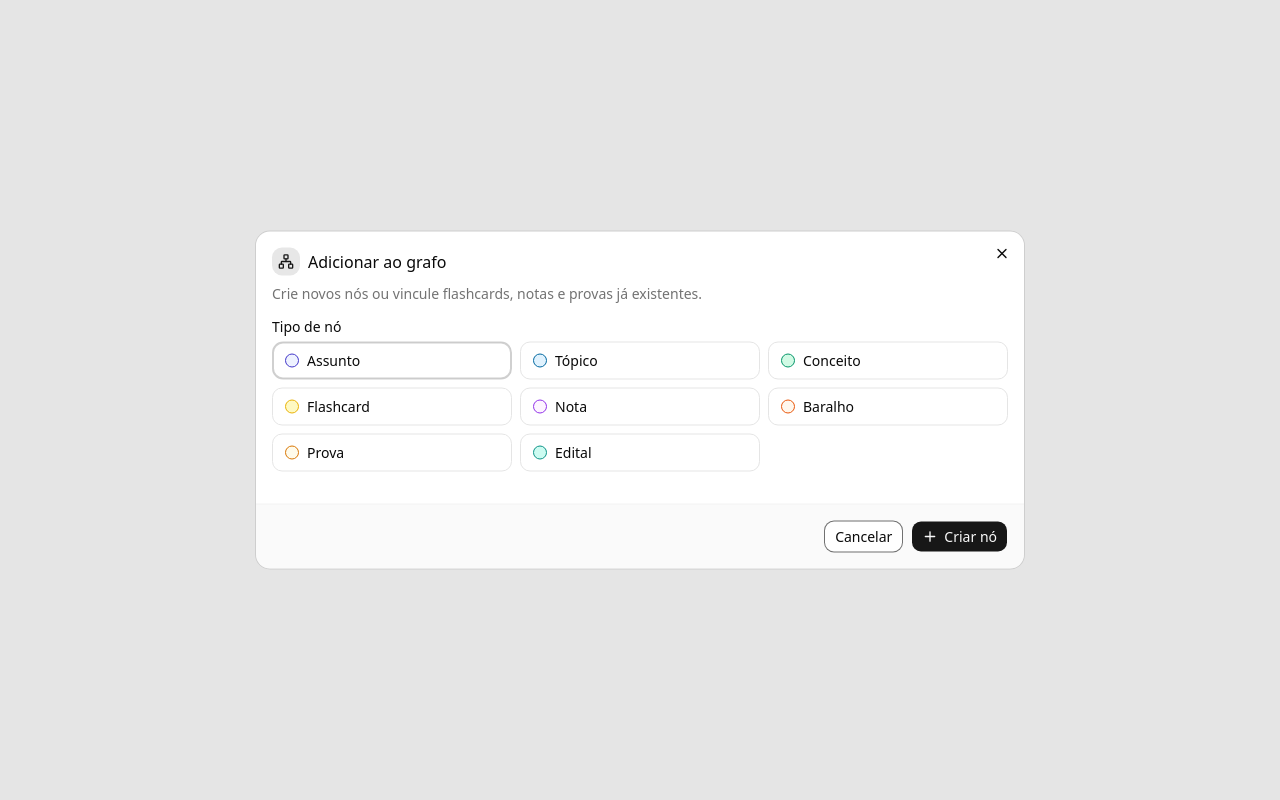
Test case: CreateNodeModal validation › asks for title, subtype and content of a NOTA in one pass
This screenshot has width=1280, height=800.
Click the button "Nota". click: (640, 406)
box: 520,388 -> 760,426
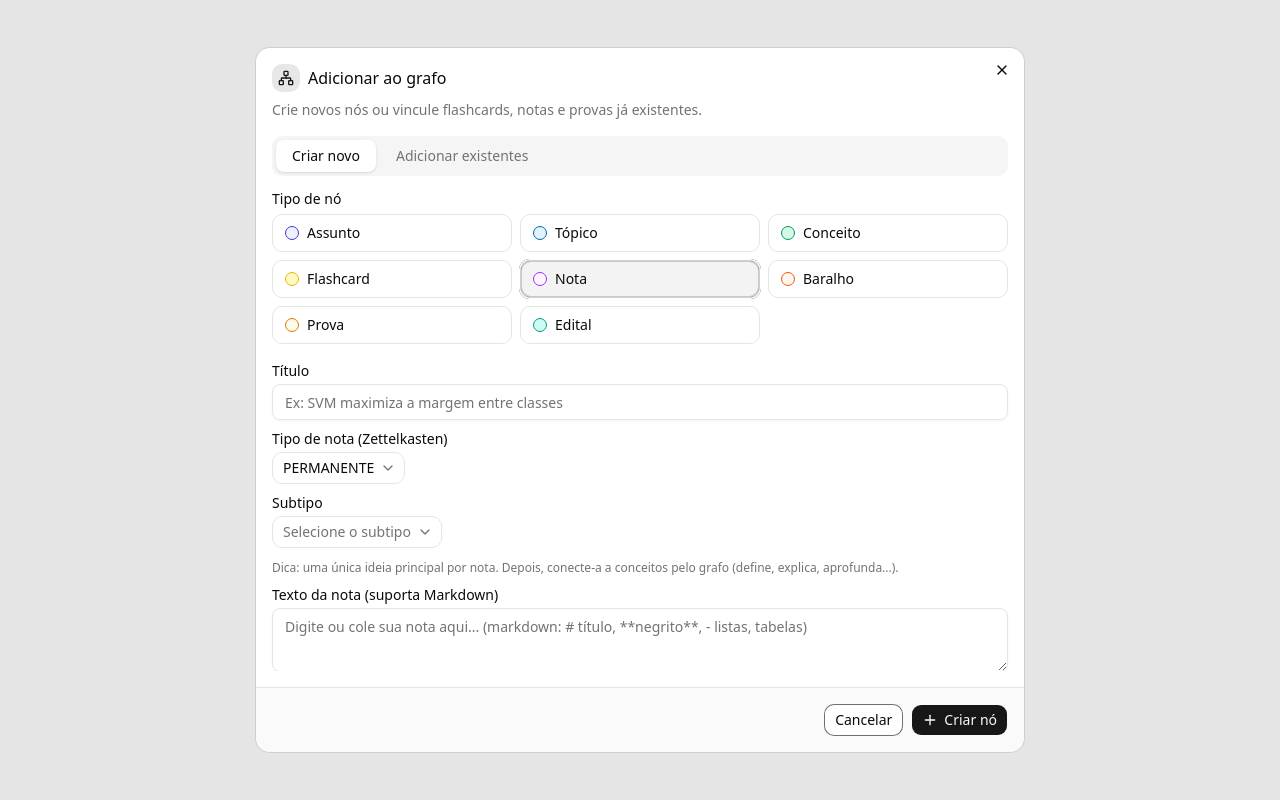
Click the button "Criar nó". click: (960, 720)
box: 911,704 -> 1008,736
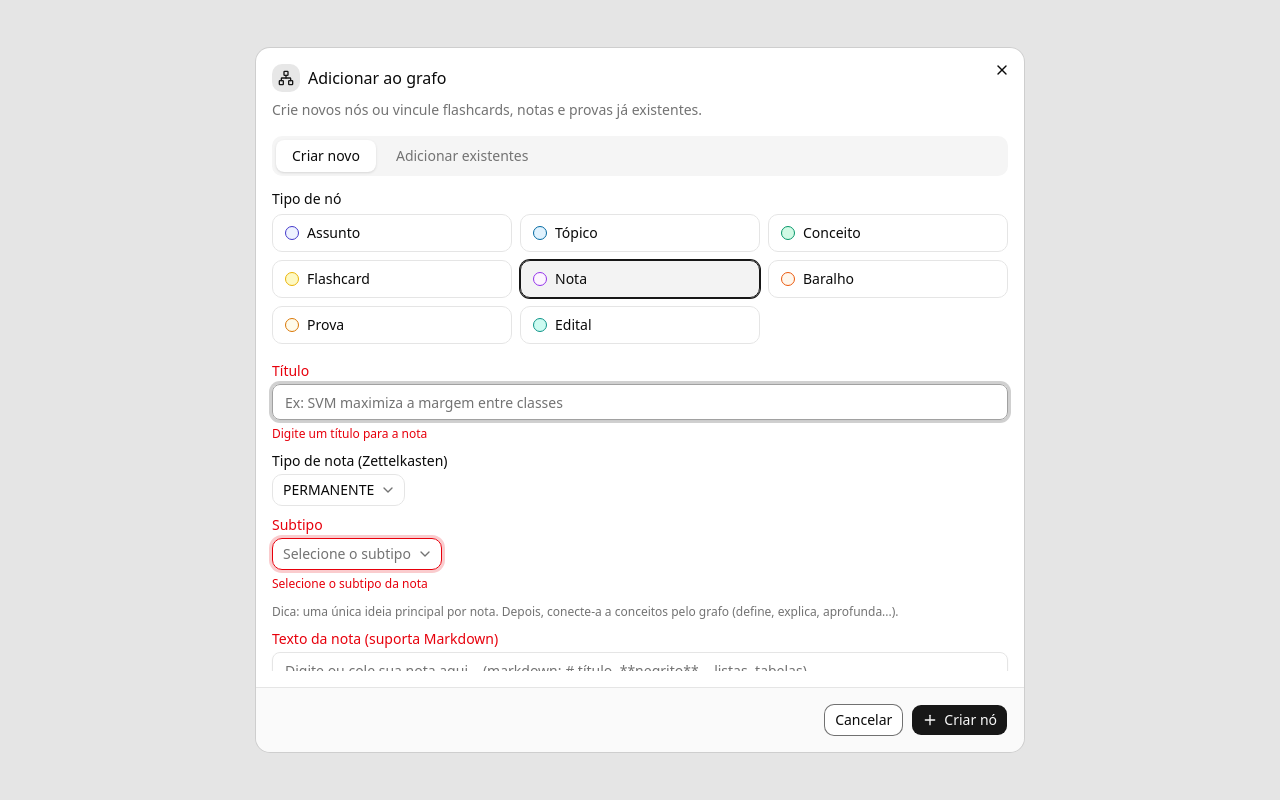
Result: the text "Digite um título para a nota" is shown at 272,425 -> 427,442
Result: the text "Selecione o subtipo da nota" is shown at 272,575 -> 428,592
